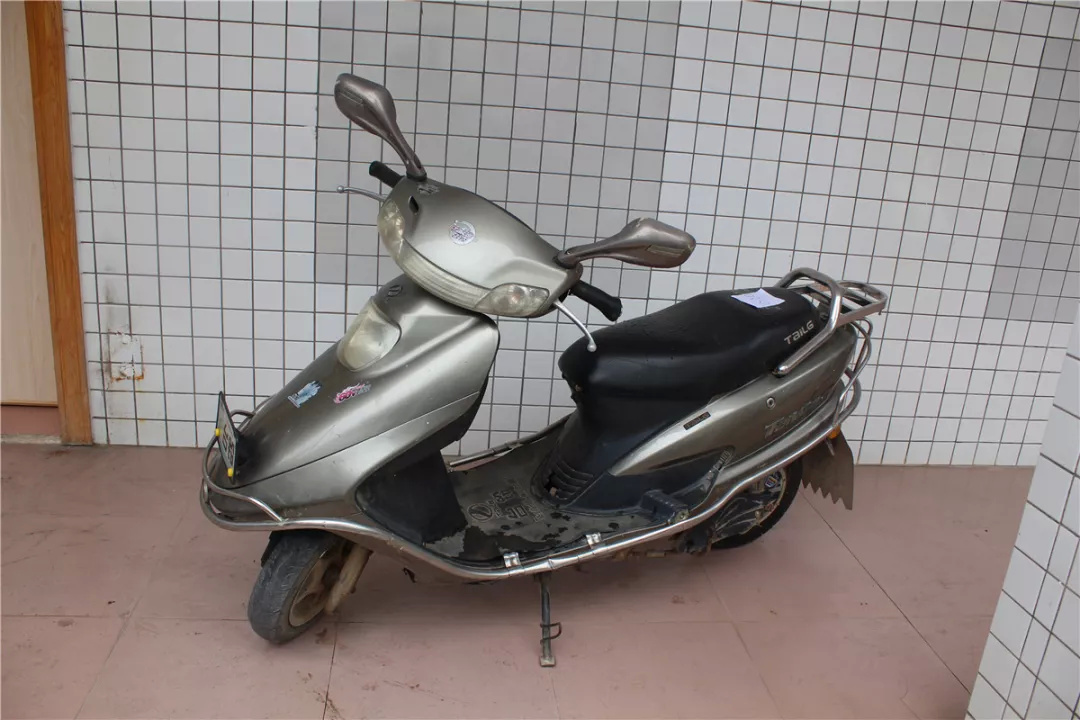电动车: (189, 63, 914, 648)
